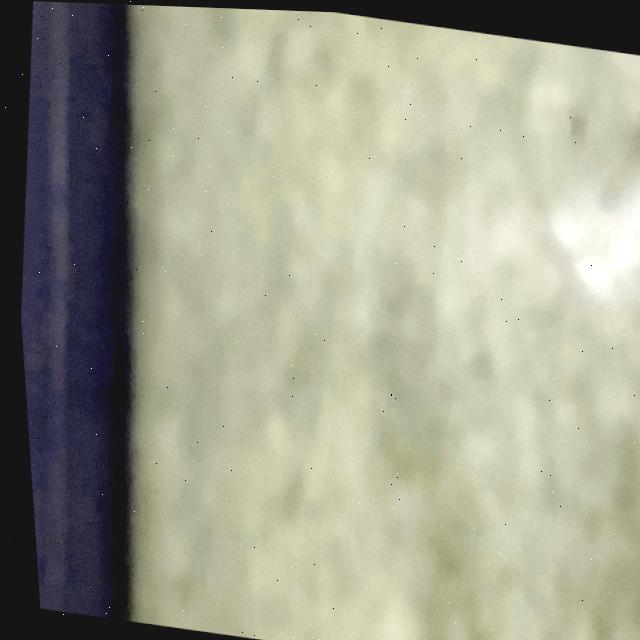Blood: (636, 377, 640, 449)
SpGravity: (636, 482, 640, 552)
pH: (638, 270, 640, 342)
